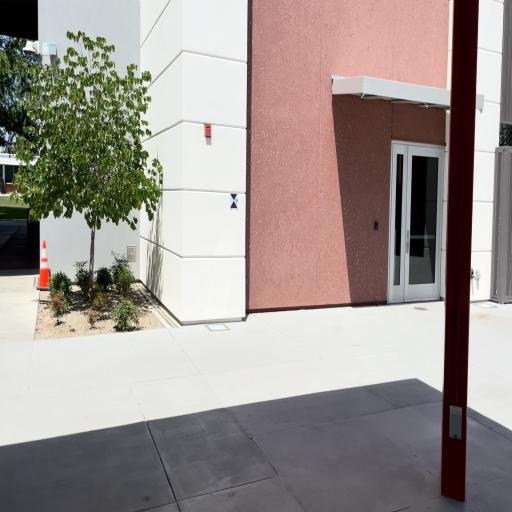target9: (230, 193, 239, 209)
